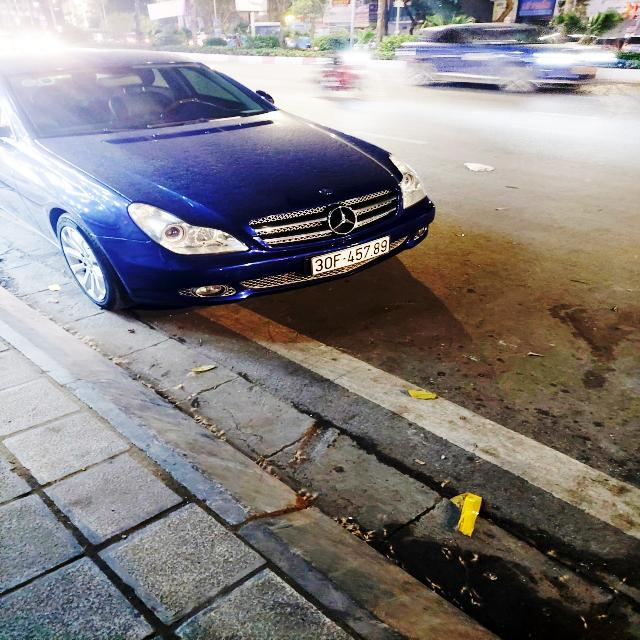license_plate: (312, 238, 390, 276)
